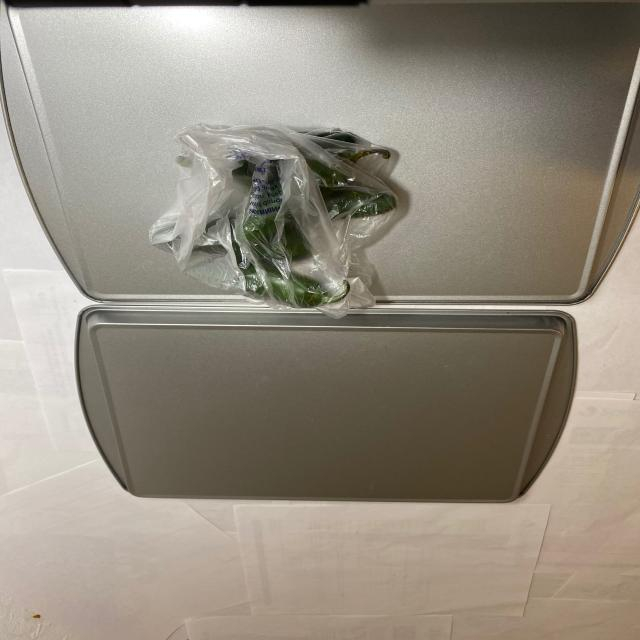chilli: (157, 128, 403, 306)
